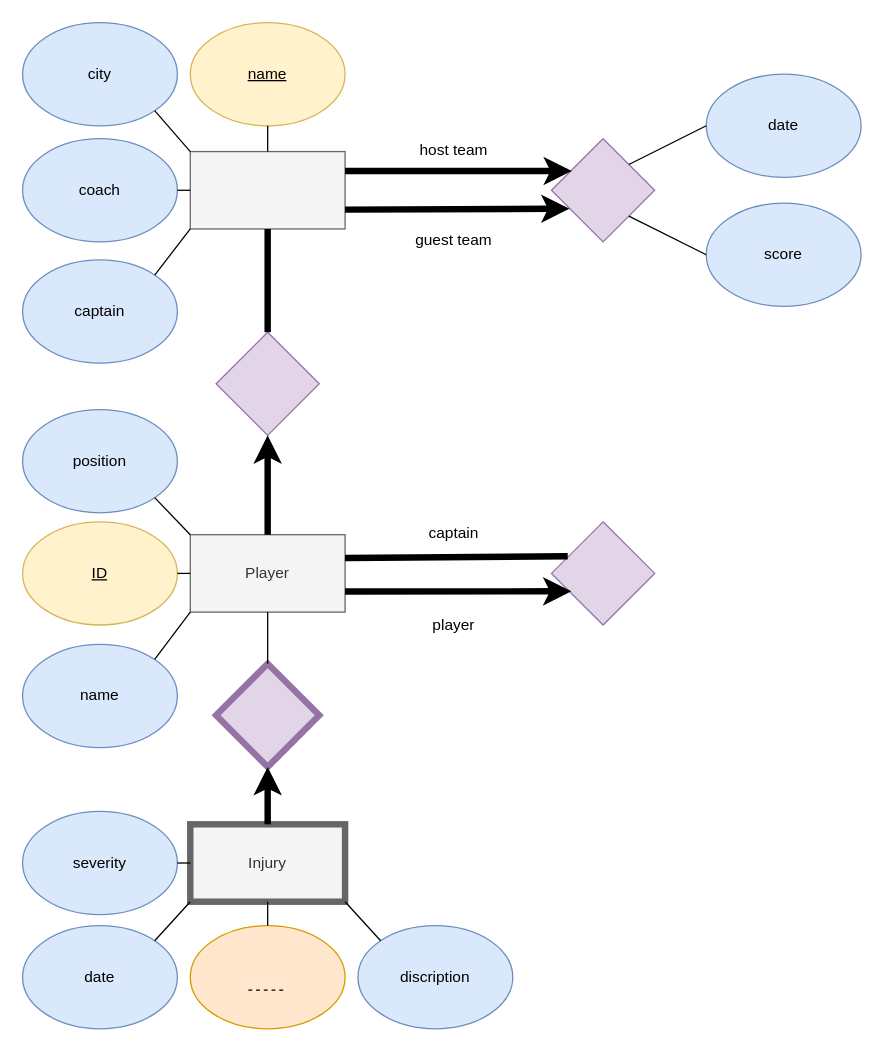
This 884x1051 diagram has some shape labels left out. The shapes that lost their labels are listed below. From the top down, each one's centre as x and y in pixels, then its label:
At pixel 267 189: "Team".
At pixel 602 189: "play".
At pixel 267 383: "belong".
At pixel 602 573: "lead".
At pixel 267 714: "injure".
At pixel 267 976: "No".
